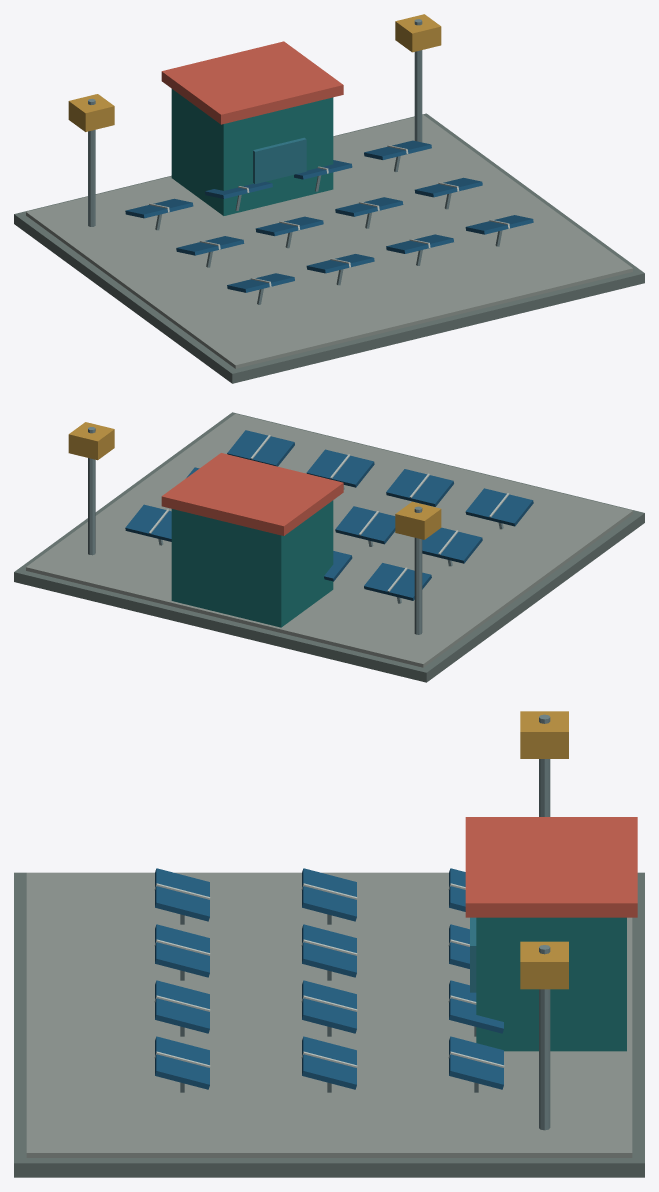
File: solar_lv3.glb
3 views of the same model, one above another, from view 1: azimuth 30°, elevation 25°; view 2: azimuth 150°, elevation 25°; view 3: azimuth 270°, elevation 25° (orthographic). The views are drawn at different scales.
Visible parts, largest first — view 1: rough, metallic, glossy; view 2: rough, metallic; view 3: rough, metallic.
Boxes of the visible parts, box(x1,y1,x2,y2) form: rough: box(14, 14, 644, 383); metallic: box(88, 19, 533, 304); glossy: box(253, 137, 306, 183); rough: box(14, 412, 644, 682); metallic: box(88, 427, 533, 634); rough: box(14, 711, 644, 1177); metallic: box(155, 714, 550, 1130).
Bounding box in the file's own units: 9.6 × 3.08 × 8.8.
